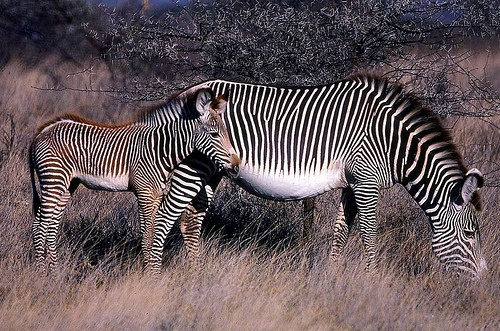zebra: (166, 74, 494, 278), (24, 90, 240, 279)
